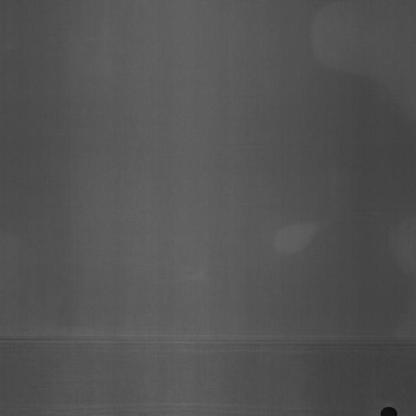punching_hole: (378, 404, 402, 414)
welding_line: (3, 323, 414, 358)
